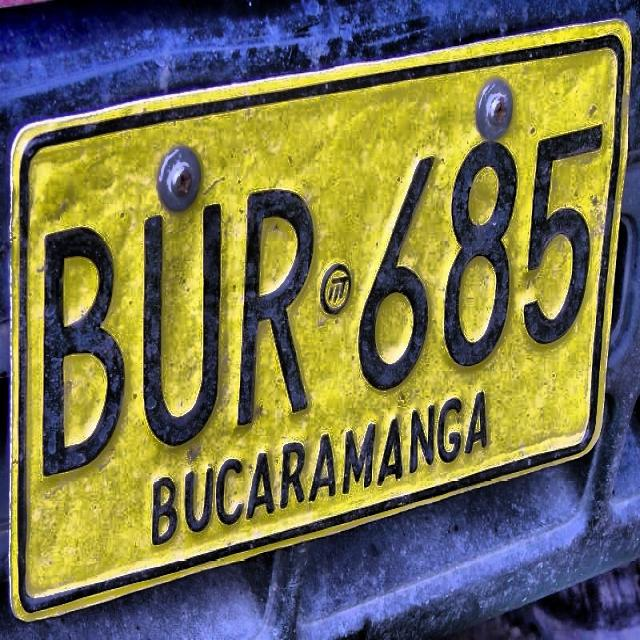plate: (16, 25, 626, 610)
